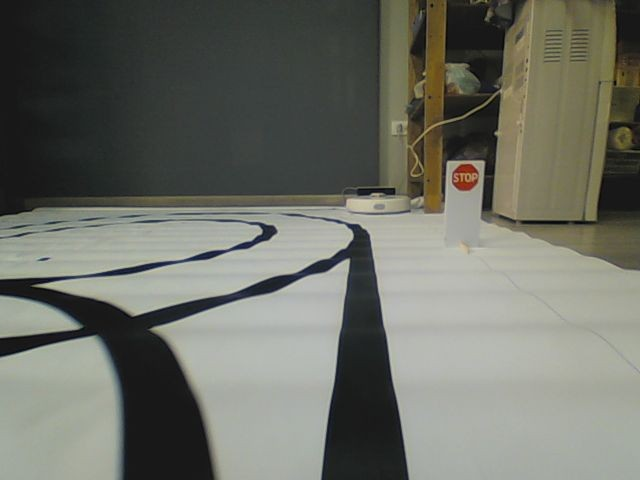Stop: (450, 163, 481, 194)
